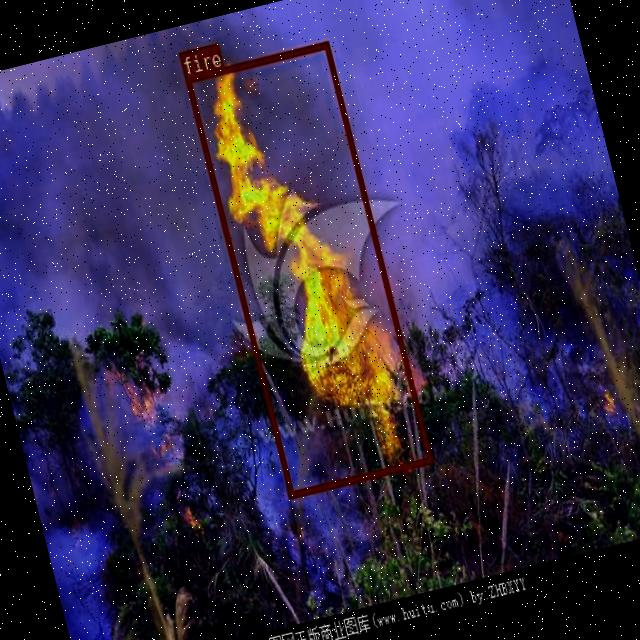fire: (182, 40, 432, 498)
